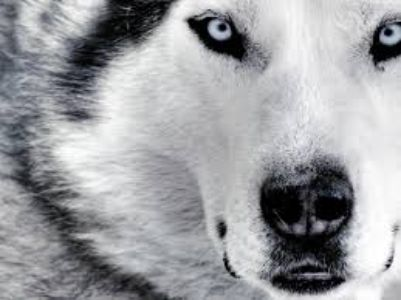wolf: (57, 5, 398, 291)
